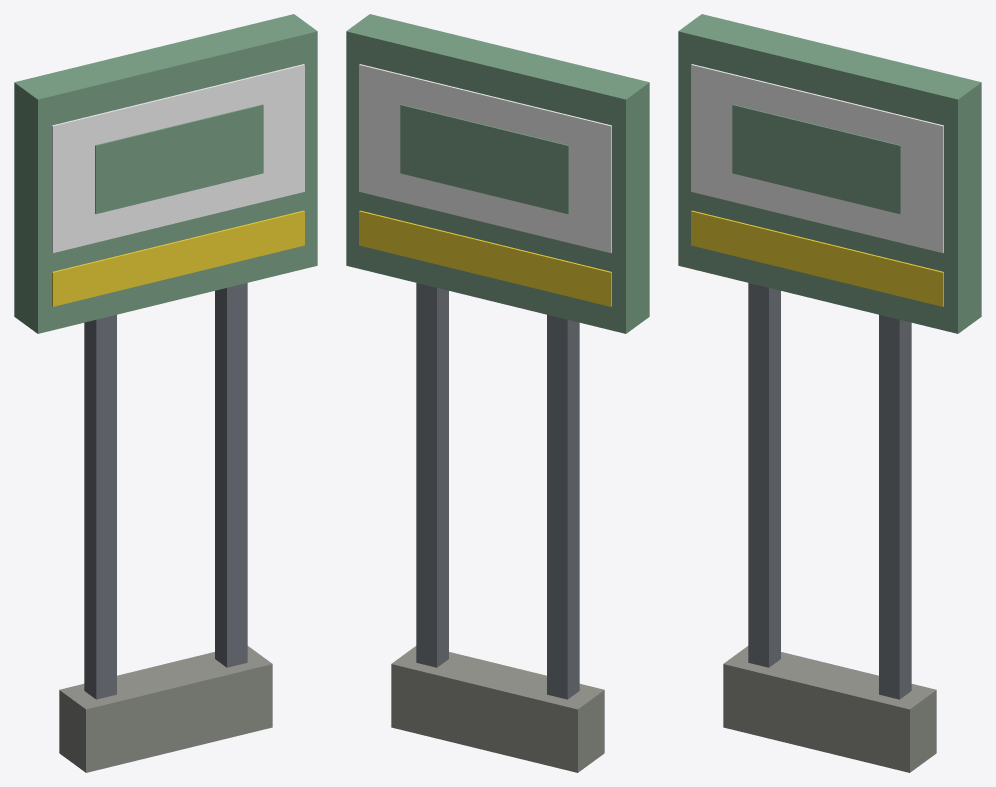
File: site_sign.fbx
The picture shows the model from 3 angles, left to right: view 1: azimuth 30°, elevation 25°; view 2: azimuth 150°, elevation 25°; view 3: azimuth 330°, elevation 25°; orthographic projection.
Visible parts, largest first — view 1: a2020/0/site_sign; view 2: a2020/0/site_sign; view 3: a2020/0/site_sign.
Part boxes in pixels (box(x1,y1,x2,y2)): a2020/0/site_sign: box(14, 14, 317, 772); a2020/0/site_sign: box(346, 14, 649, 772); a2020/0/site_sign: box(678, 14, 981, 772).
Size of the model in its own units: 3 by 7 by 0.51.
